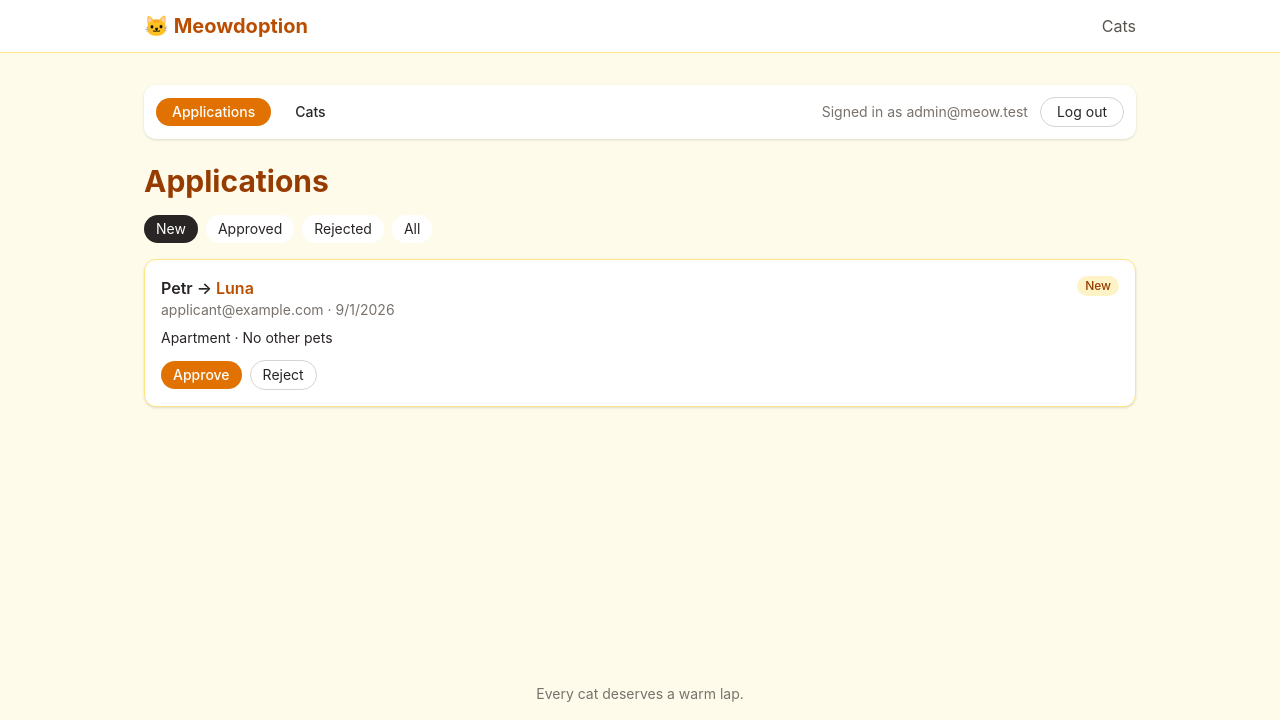
Test case: admin applications › shows the server's reason when a change is refused
This screenshot has width=1280, height=720.
Click the button "Approve" at x=201, y=375, box top-left (161, 361), bottom-right (242, 389)
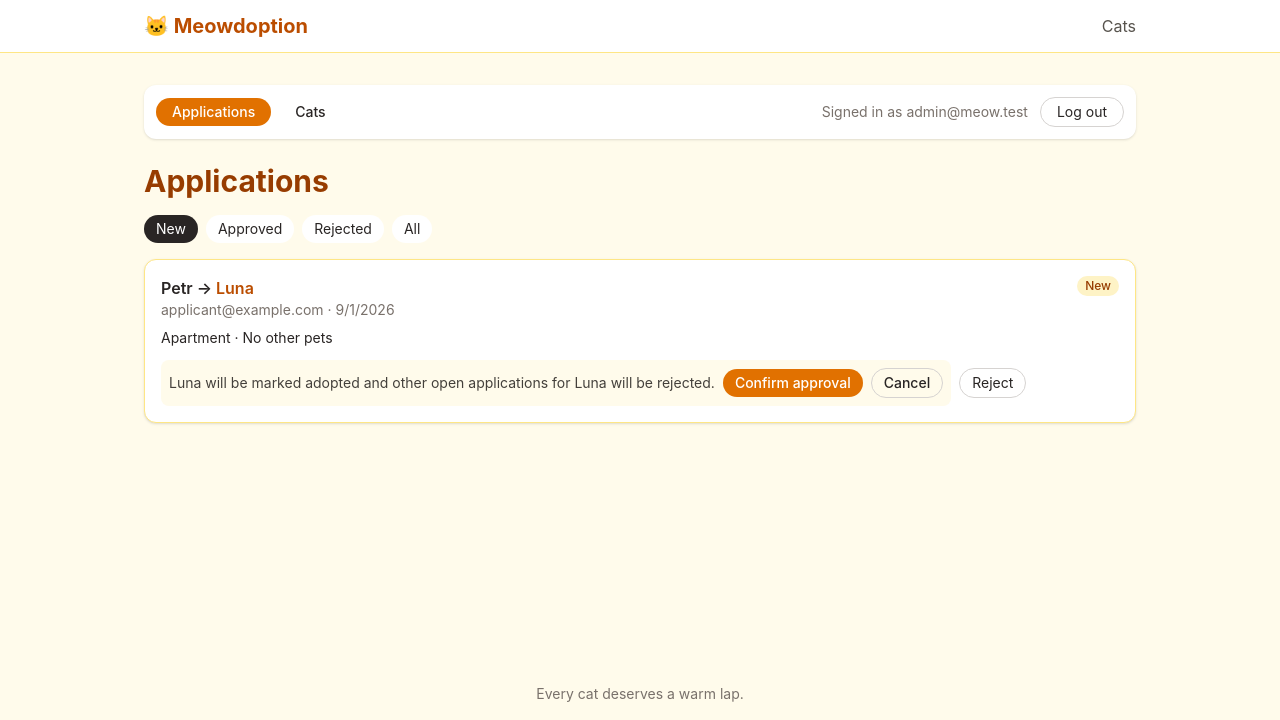
Click the button "Confirm approval" at x=793, y=383, box top-left (723, 369), bottom-right (863, 397)
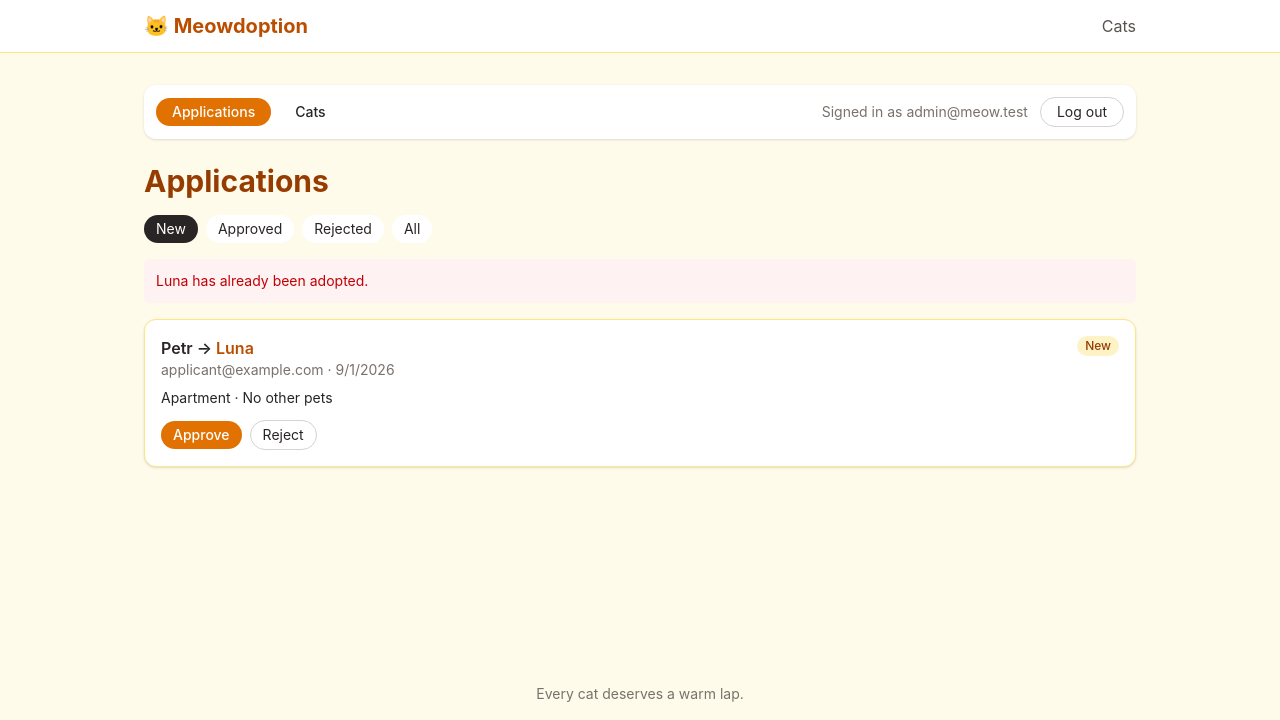
Expected: the message reads "Luna has already been adopted.", top-left (156, 272), bottom-right (368, 289)
